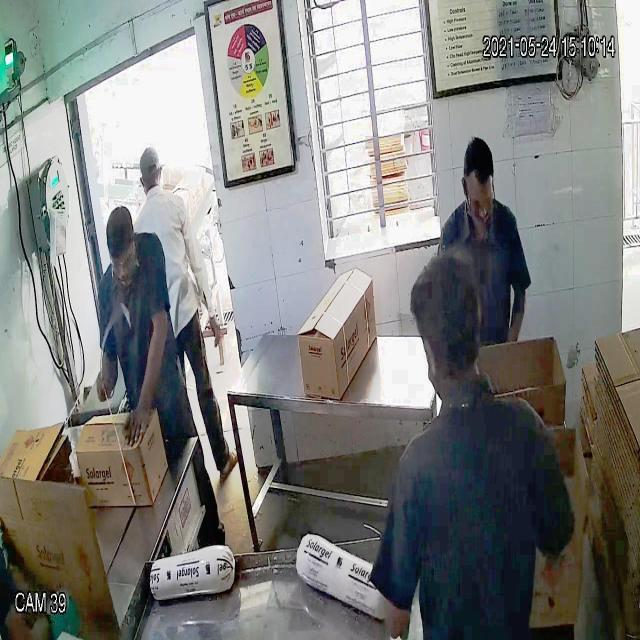glasses: (459, 173, 499, 215), (104, 244, 140, 276)
